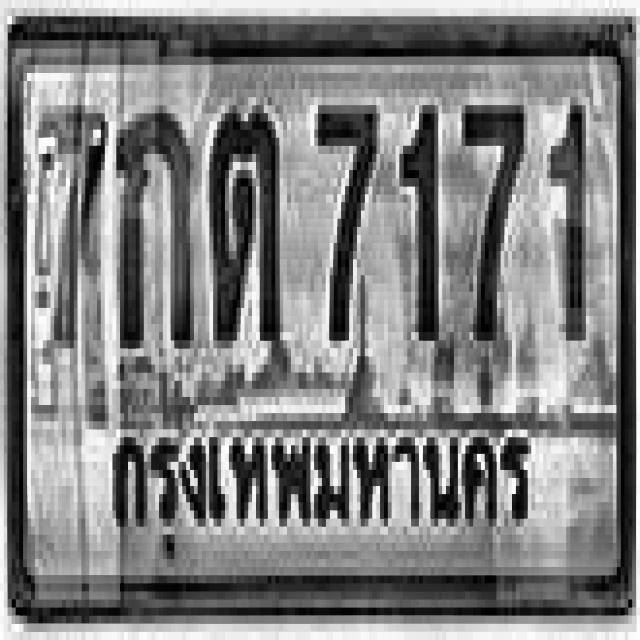license-plate: (12, 25, 635, 617)
